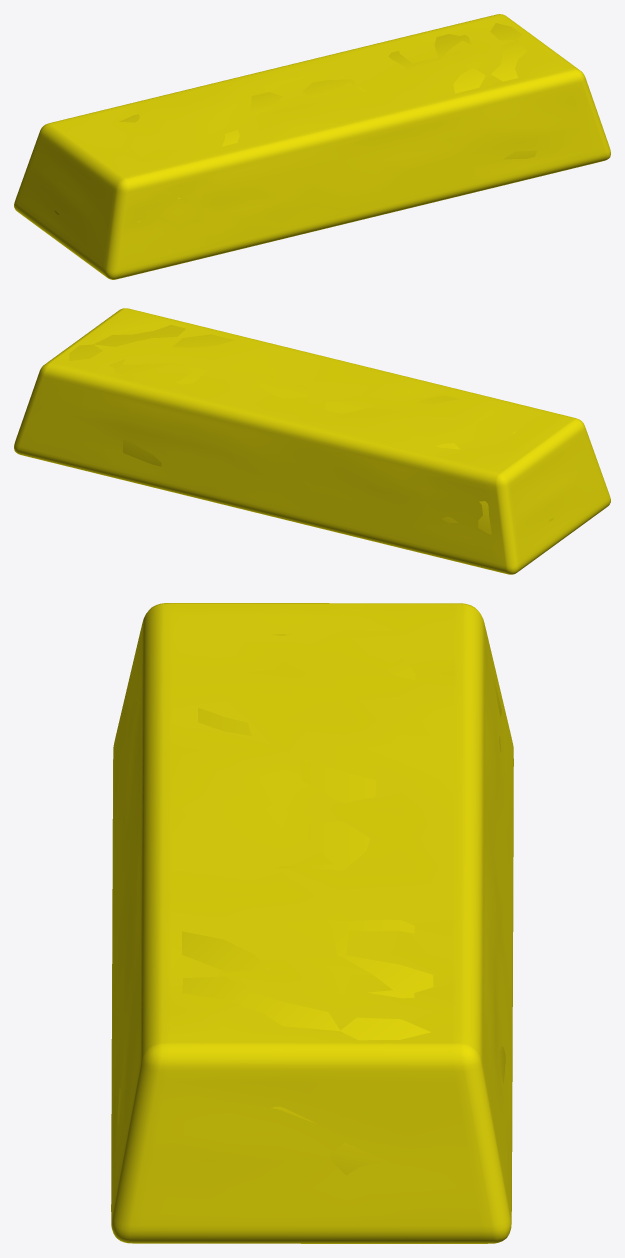
The model's file is gold.fbx.
3 views of the same model, one above another, from view 1: azimuth 30°, elevation 25°; view 2: azimuth 150°, elevation 25°; view 3: azimuth 270°, elevation 25° (orthographic). The views are drawn at different scales.
Parts seen in each view (by area): view 1: Bar of metal_LOD0, Bar of metal_PHYS; view 2: Bar of metal_LOD0, Bar of metal_PHYS; view 3: Bar of metal_LOD0, Bar of metal_PHYS.
Boxes of the visible parts, left/top/right/bottom form: Bar of metal_LOD0: left=14, top=14, right=610, bottom=279; Bar of metal_PHYS: left=54, top=23, right=605, bottom=277; Bar of metal_LOD0: left=14, top=308, right=610, bottom=574; Bar of metal_PHYS: left=19, top=325, right=553, bottom=572; Bar of metal_LOD0: left=111, top=603, right=513, bottom=1243; Bar of metal_PHYS: left=117, top=604, right=505, bottom=1240.
Size of what is drawn, in the model's own units: 27.43 by 4.87 by 9.48.
